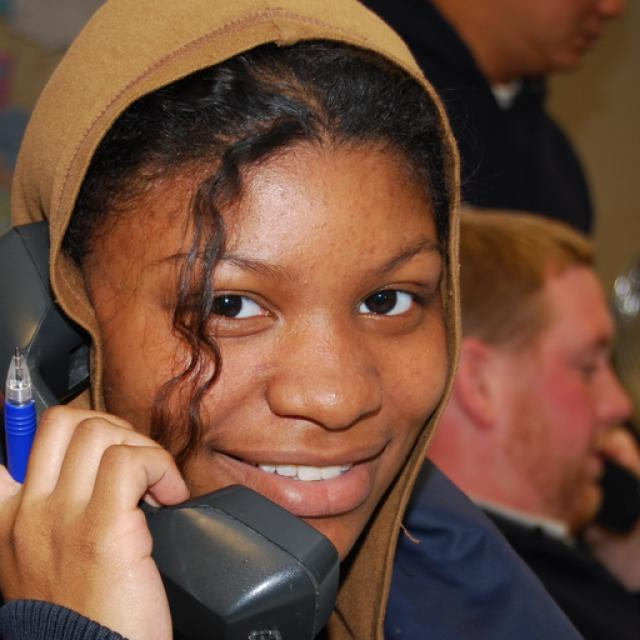Acne: (298, 272, 315, 292), (318, 216, 335, 228)
